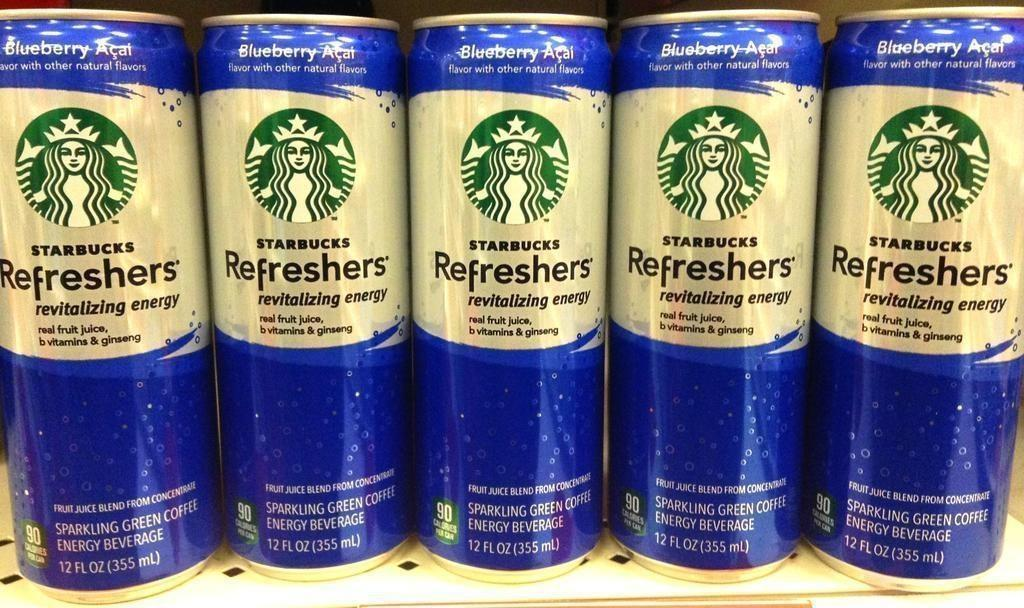tin can: (608, 9, 827, 579), (1, 9, 206, 602), (816, 5, 1023, 590), (198, 14, 412, 578), (408, 15, 610, 579)
